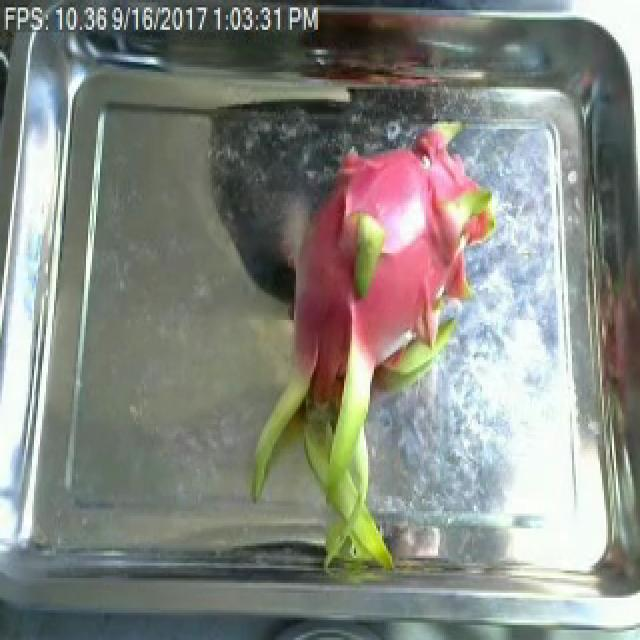fruit: (230, 136, 488, 568)
